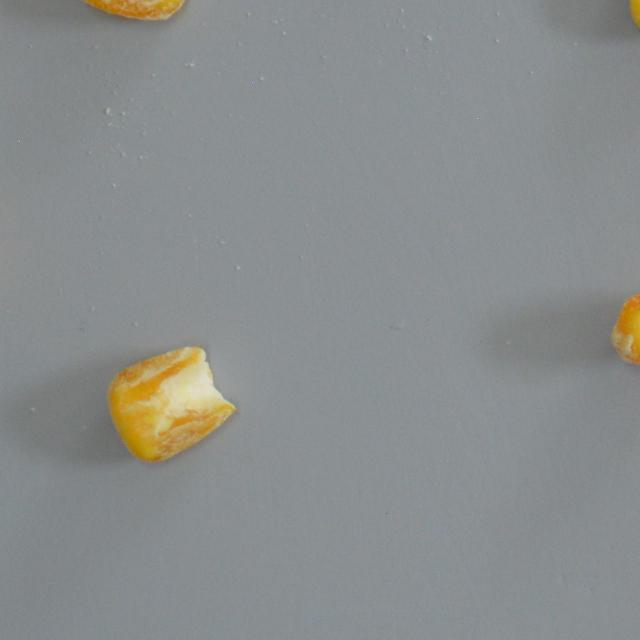pelicula: (106, 346, 234, 464), (76, 0, 193, 22), (610, 287, 640, 365)
